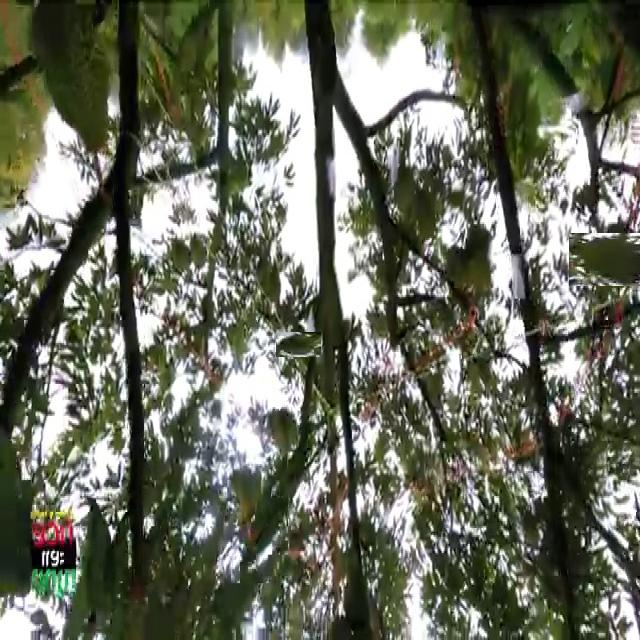durian: (41, 22, 115, 158), (577, 225, 640, 296), (281, 326, 316, 362)
